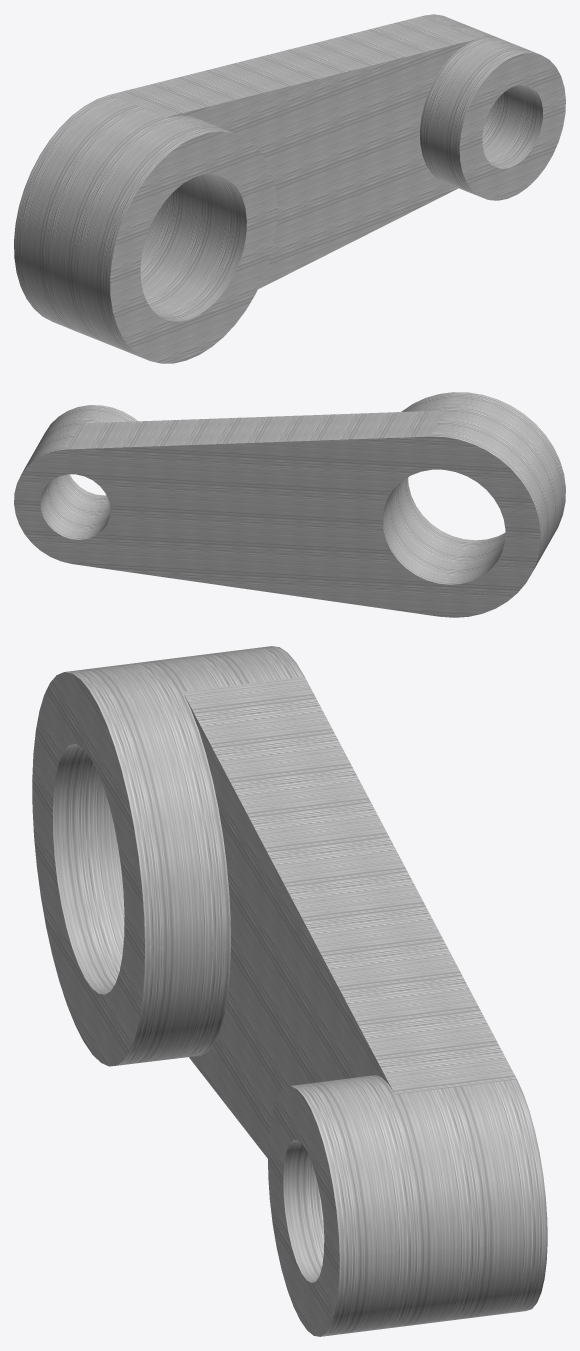
3 views of the same model, one above another, from view 1: azimuth 30°, elevation 25°; view 2: azimuth 150°, elevation 25°; view 3: azimuth 270°, elevation 25° (orthographic). The views are drawn at different scales.
Parts seen in each view (by area): view 1: 5-66; view 2: 5-66; view 3: 5-66.
Boxes of the visible parts, x1=… form: 5-66: x1=14, y1=14, x2=565, y2=363; 5-66: x1=14, y1=392, x2=565, y2=617; 5-66: x1=32, y1=646, x2=547, y2=1336.
Bounding box in the file's own units: 7.61 × 2.75 × 3.56.
Materials: 1 (1 with a texture image).
